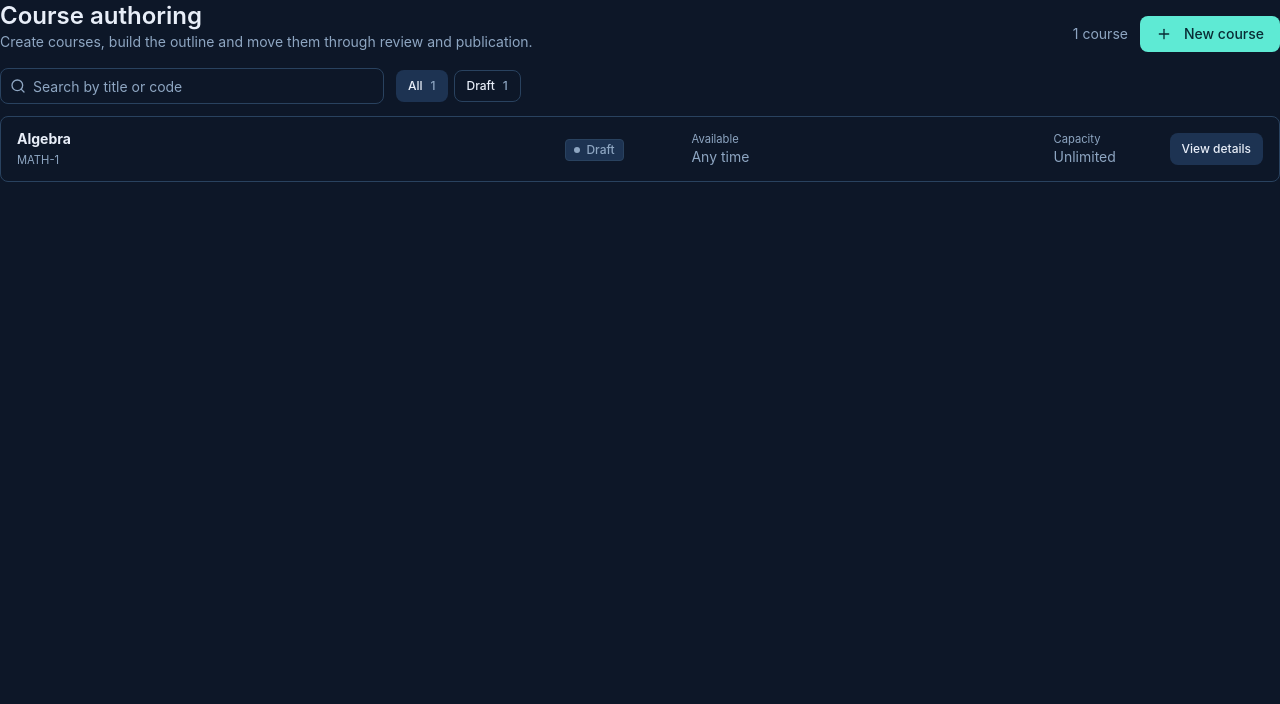
Test: CoursesPage authoring › edits details on the Details tab without sending the course code
Click the button with aria-label "View details for Algebra" at (1216, 149), box [1170, 133, 1263, 165]
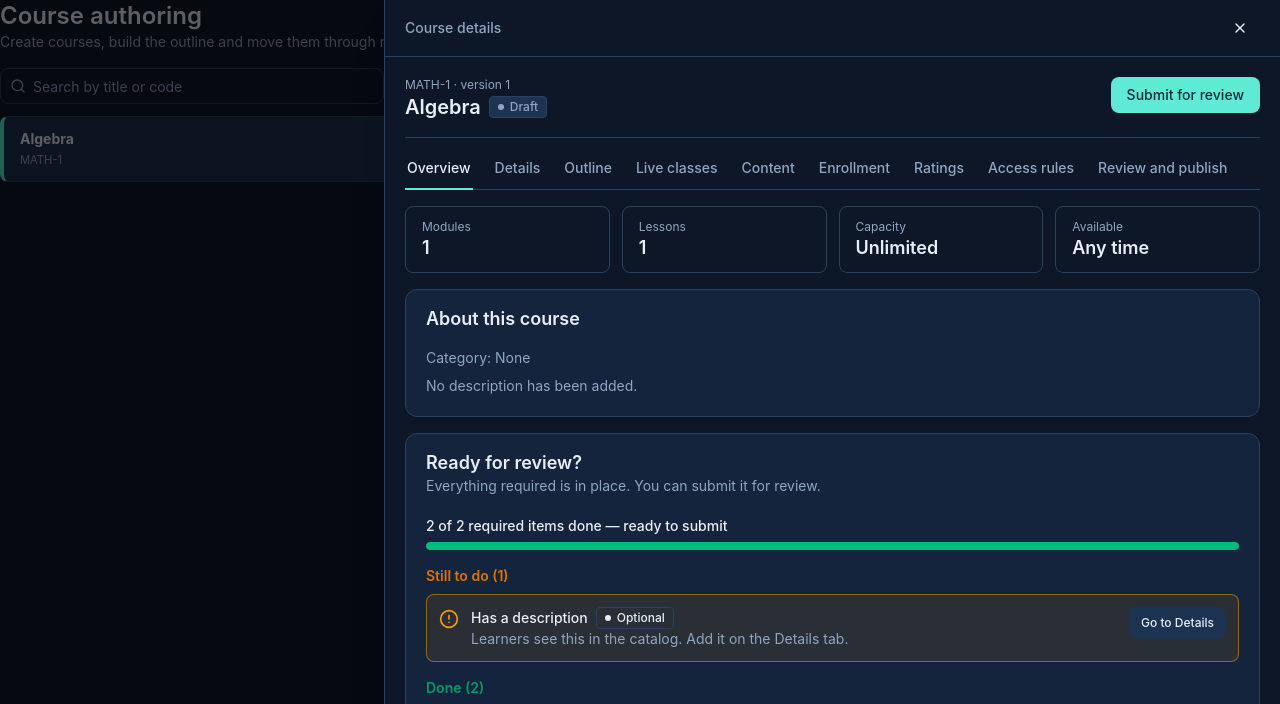
Click the tab "Details" at (517, 172), box [492, 154, 542, 190]
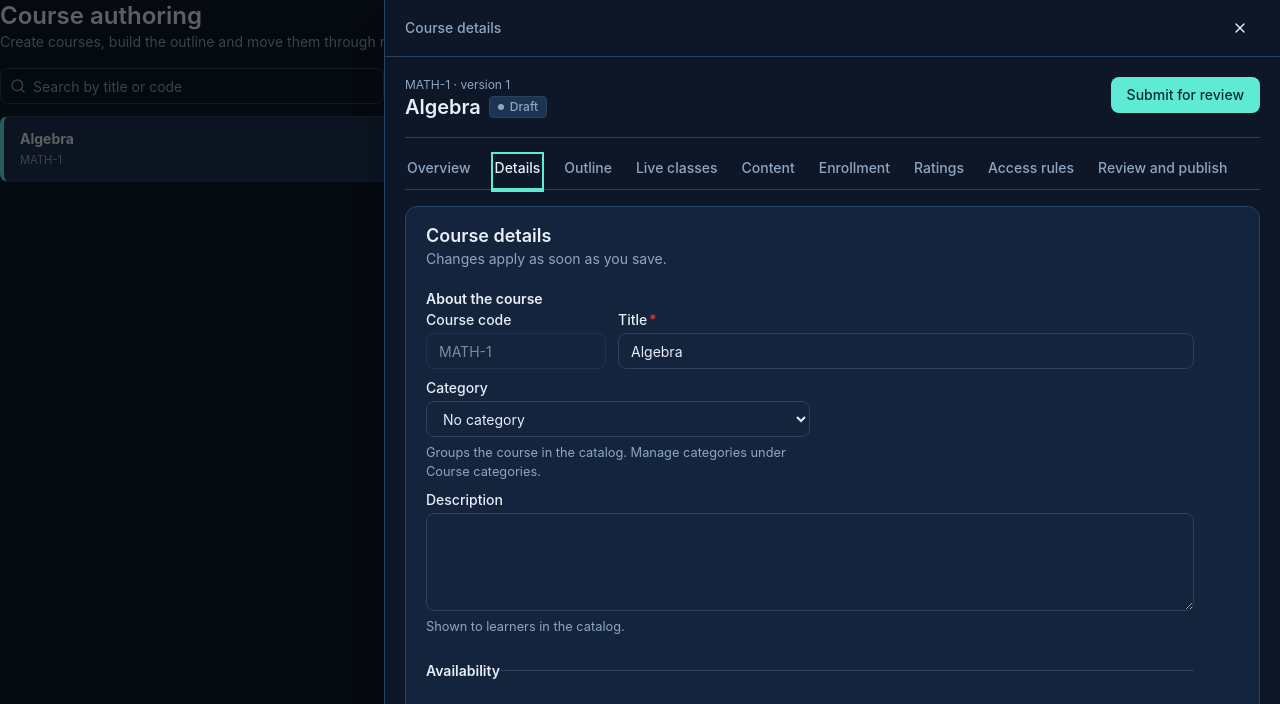
Now the field labelled "Course code" is disabled, box [426, 333, 606, 369]
Replace the text in the field labelled "Title" with "Algebra II" at (906, 351), box [618, 333, 1194, 369]
(page scrolled)
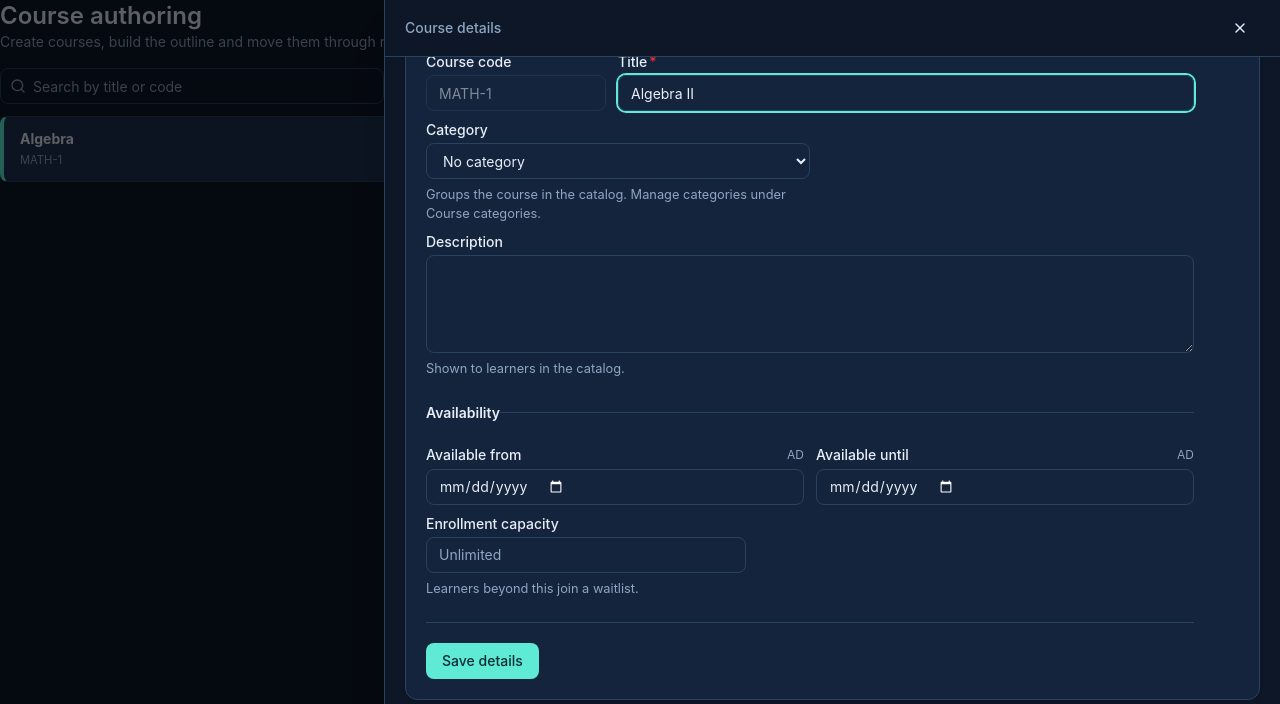
Click the button "Save details" at (482, 661), box [426, 643, 539, 679]
(page scrolled)
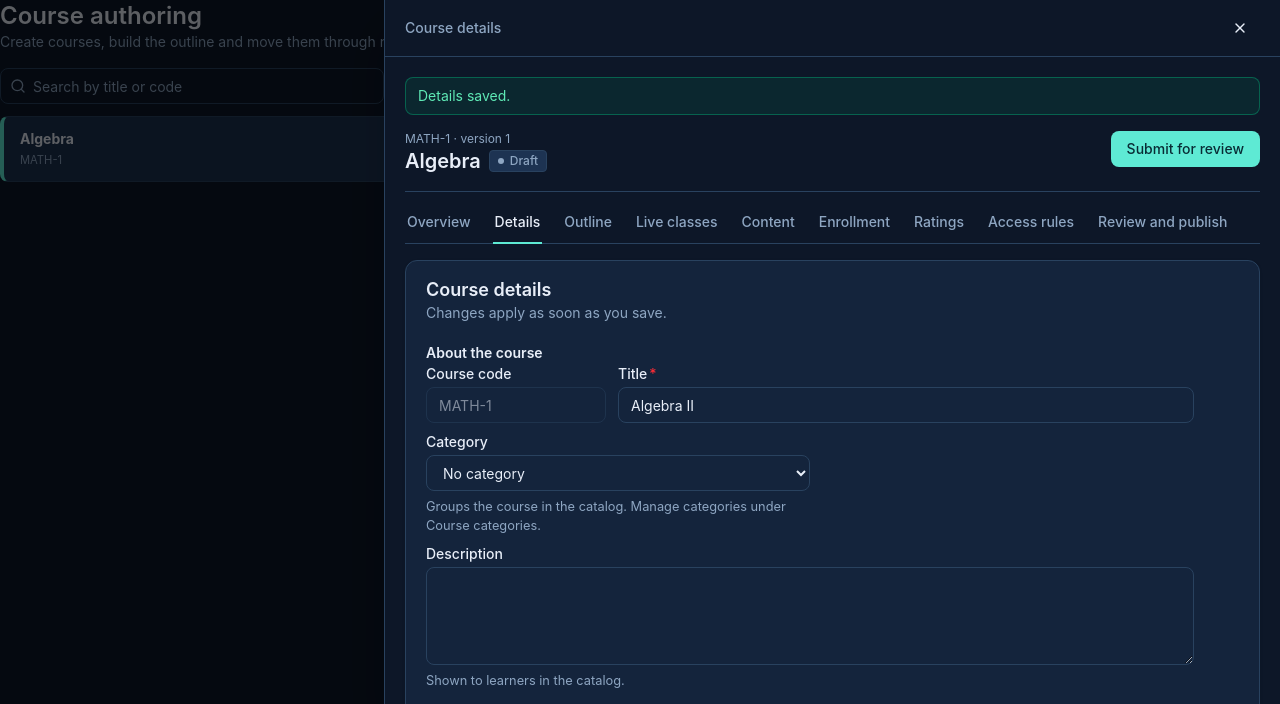
Now the text "Details saved." is shown, box [405, 77, 1260, 115]
